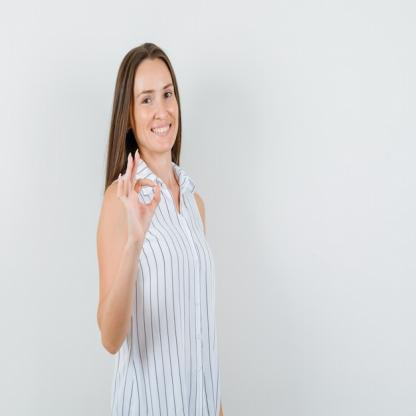ok: (116, 148, 165, 238)
